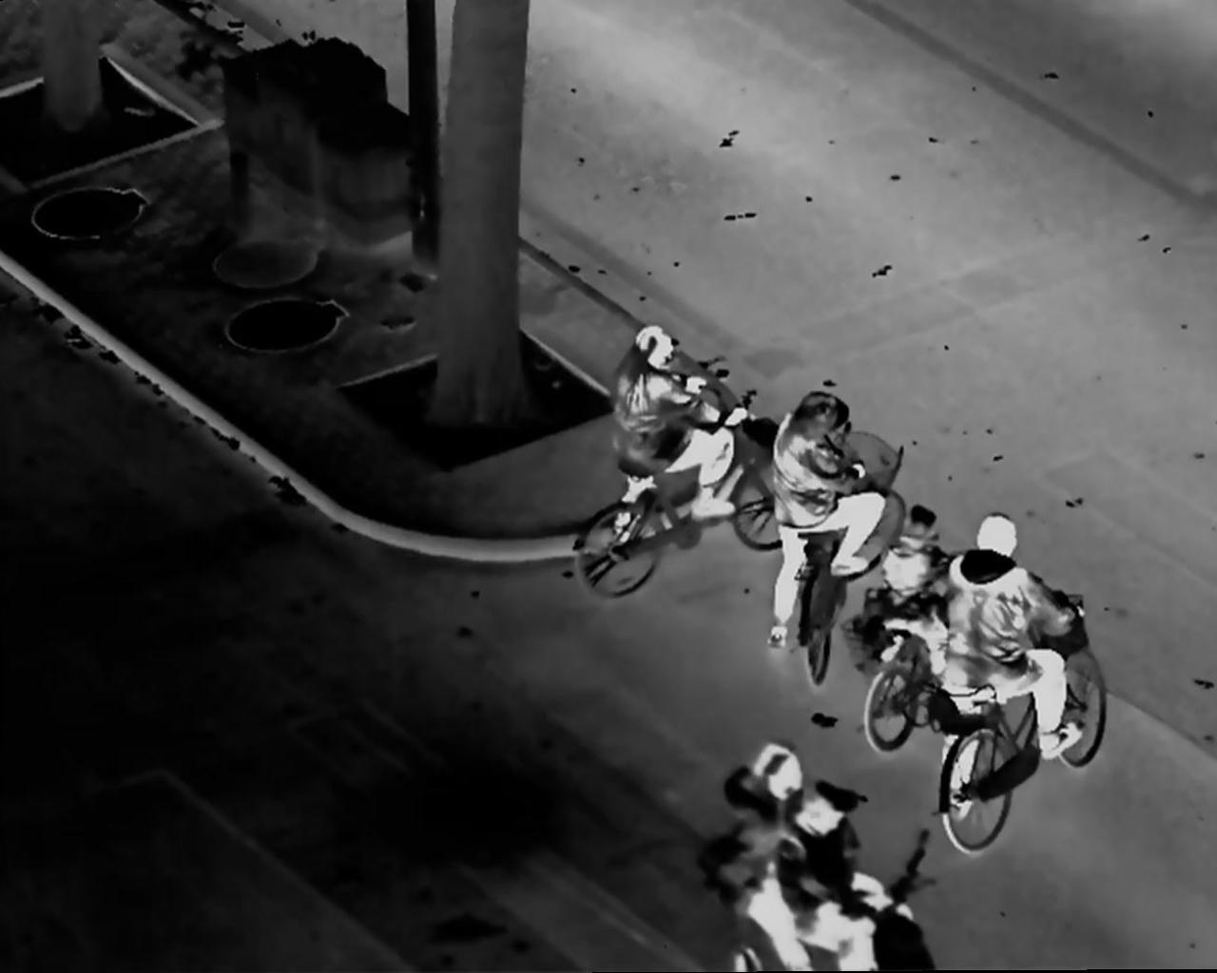person: (947, 514, 1094, 823), (765, 386, 884, 651), (604, 324, 744, 544), (768, 780, 911, 973), (726, 736, 803, 967), (877, 496, 954, 689)
